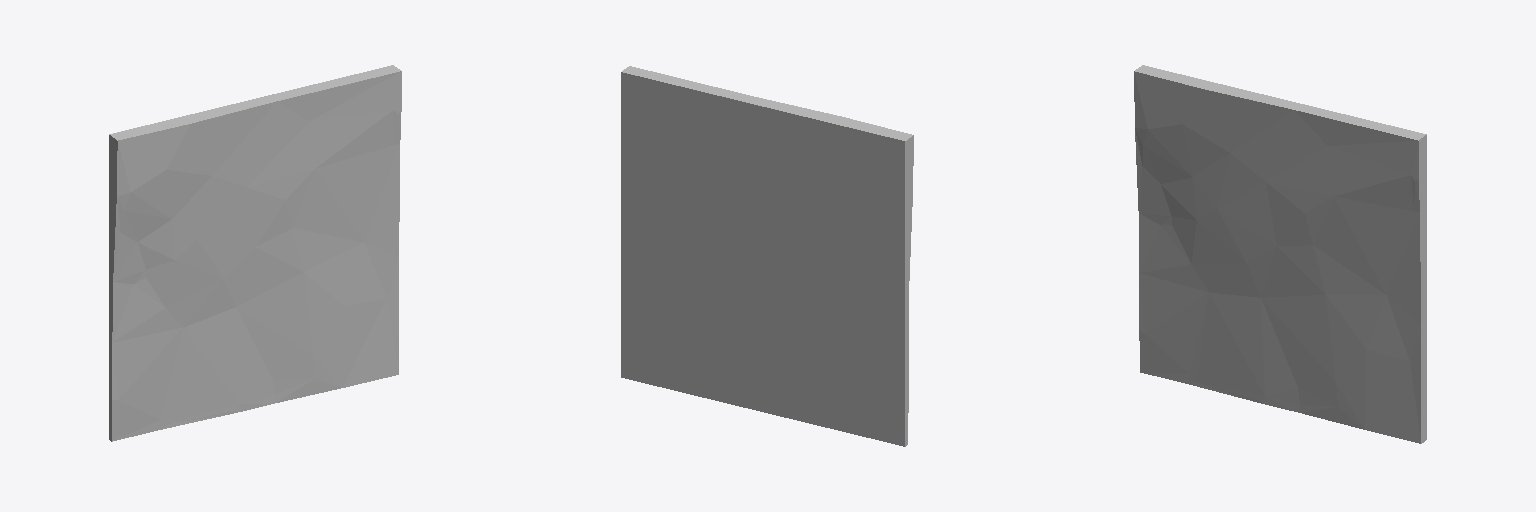
File: Blanchardstown_TUDublin_Floor v5.obj
The picture shows the model from 3 angles: view 1: azimuth 30°, elevation 25°; view 2: azimuth 150°, elevation 25°; view 3: azimuth 330°, elevation 25°; orthographic projection.
Visible parts, largest first — view 1: Body379; view 2: Body379; view 3: Body379.
Part boxes in pixels (bbox=[...]): Body379: bbox=[109, 65, 401, 441]; Body379: bbox=[621, 66, 913, 446]; Body379: bbox=[1134, 65, 1426, 443].
Bounding box in the file's own units: 78.4 × 80.53 × 4.56.